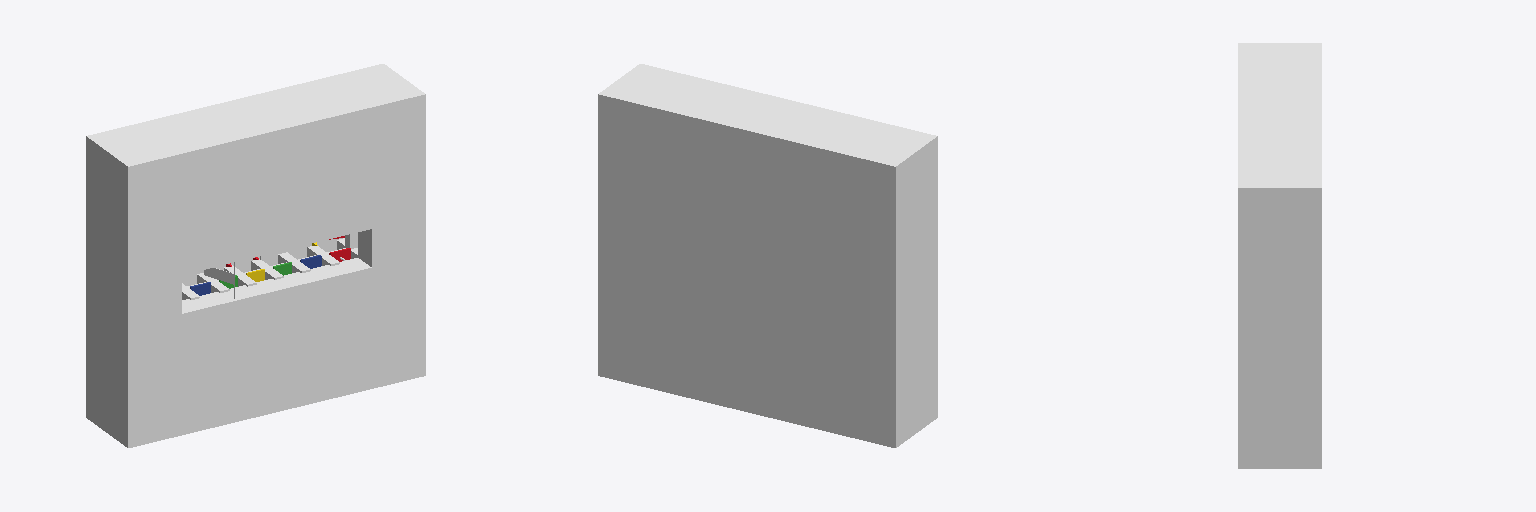
The picture shows the model from 3 angles: view 1: azimuth 30°, elevation 25°; view 2: azimuth 150°, elevation 25°; view 3: azimuth 270°, elevation 25°; orthographic projection.
Parts seen in each view (by area): view 1: obj_0; view 2: obj_0; view 3: obj_0.
Part boxes in pixels (x1,y1,x2,y2): obj_0: (86,64,425,447); obj_0: (598,64,937,447); obj_0: (1238,43,1321,468).
Size of the model in its own units: 584 by 528 by 143.